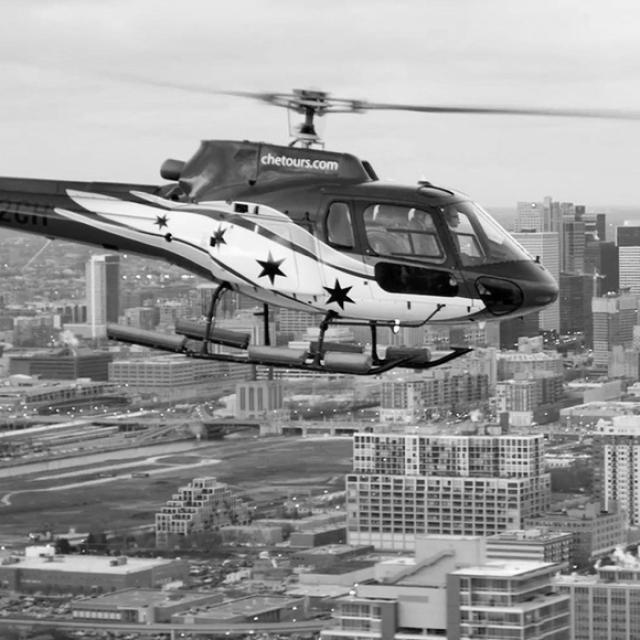helicopter: (1, 45, 626, 388)
